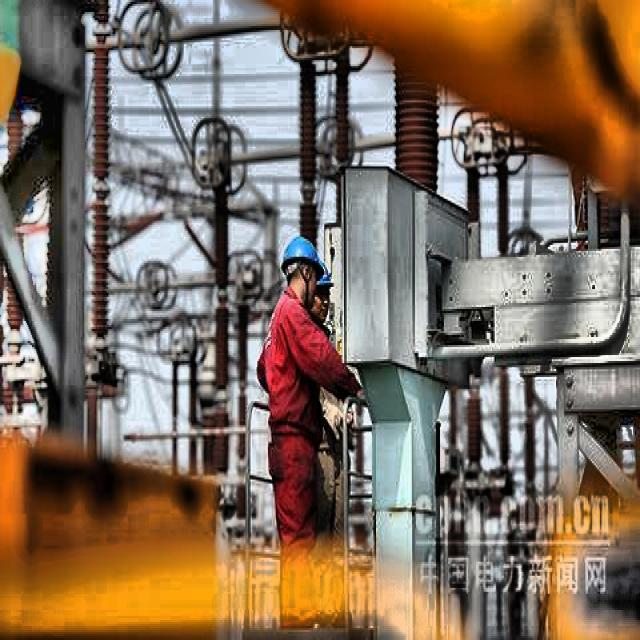helmet: (275, 231, 325, 311)
